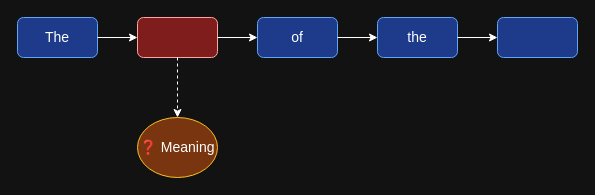
Some shapes in this 595 by 195 pixel diagram are drawn without their labels. Each missing label, with the centre of its shape:
bank 🏦: [177,37]
river 🌊: [537,37]
